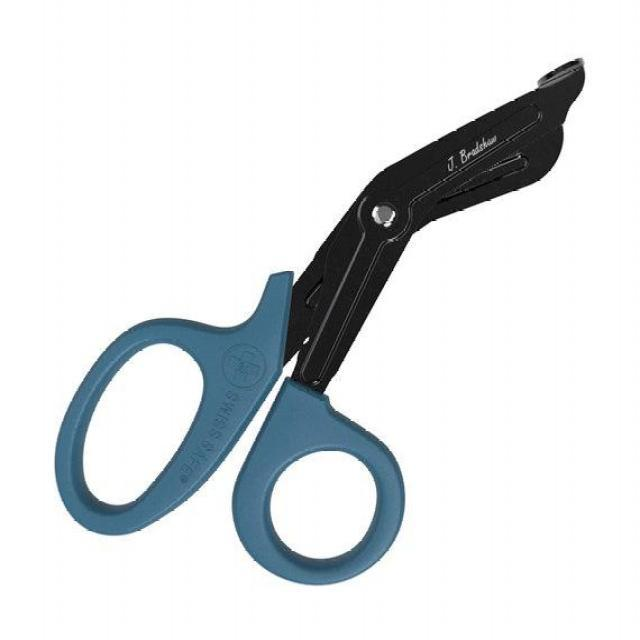scissors: (52, 54, 589, 587)
